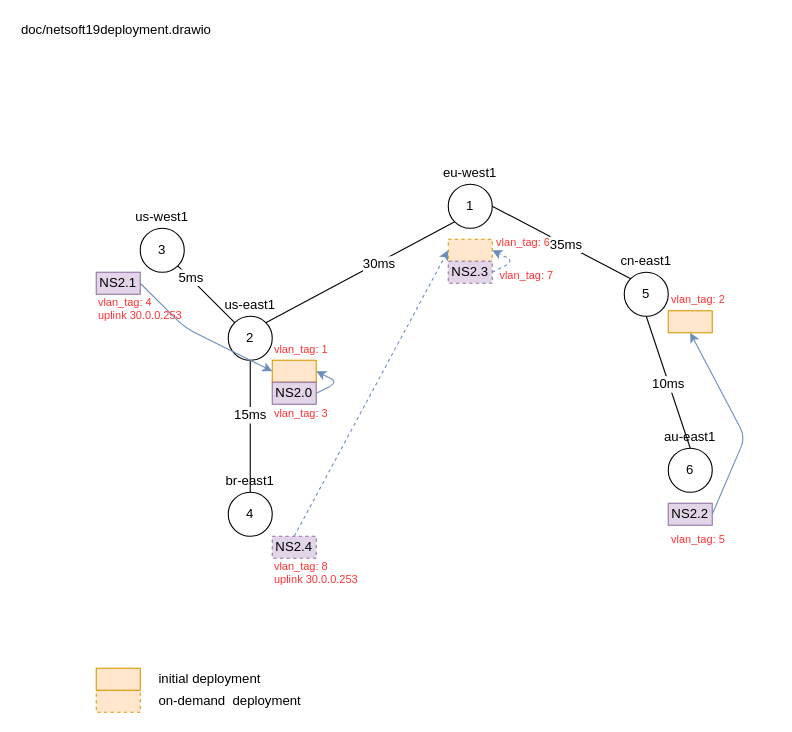
The diagram is 792 pixels wide and 732 high, and some of its shapes have lost their labels. The shapes that lost their labels are listed below. From the top down, each one's centre as x and y in pixels, then its label:
At pixel 469 249: "NS1.2".
At pixel 689 321: "NS1.1".
At pixel 293 370: "NS1.0".
